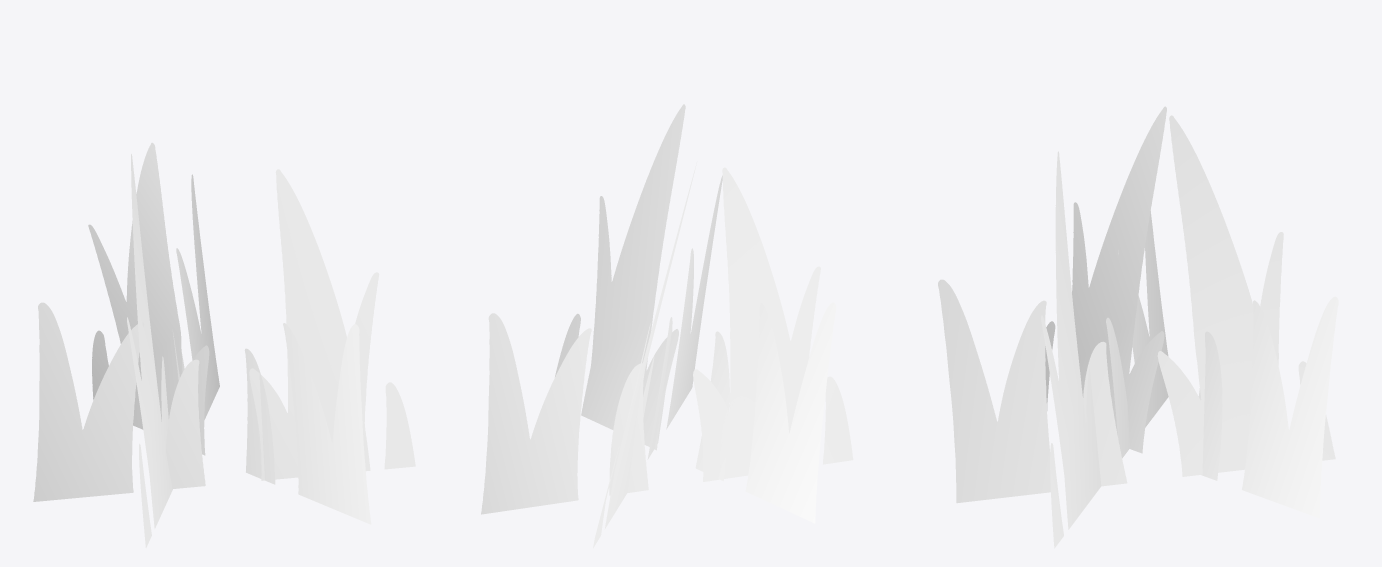
Rendered from Grass_01.fbx.
3 views of the same model, side by side, from view 1: azimuth 30°, elevation 25°; view 2: azimuth 150°, elevation 25°; view 3: azimuth 270°, elevation 25° (orthographic).
Visible parts, largest first — view 1: Plane.002; view 2: Plane.002; view 3: Plane.002.
Boxes of the visible parts, box(x1,y1,x2,y2) form: Plane.002: box(33, 142, 415, 547); Plane.002: box(481, 104, 853, 548); Plane.002: box(938, 106, 1338, 548).
Size of the model in its own units: 50.31 by 49.07 by 55.4.
